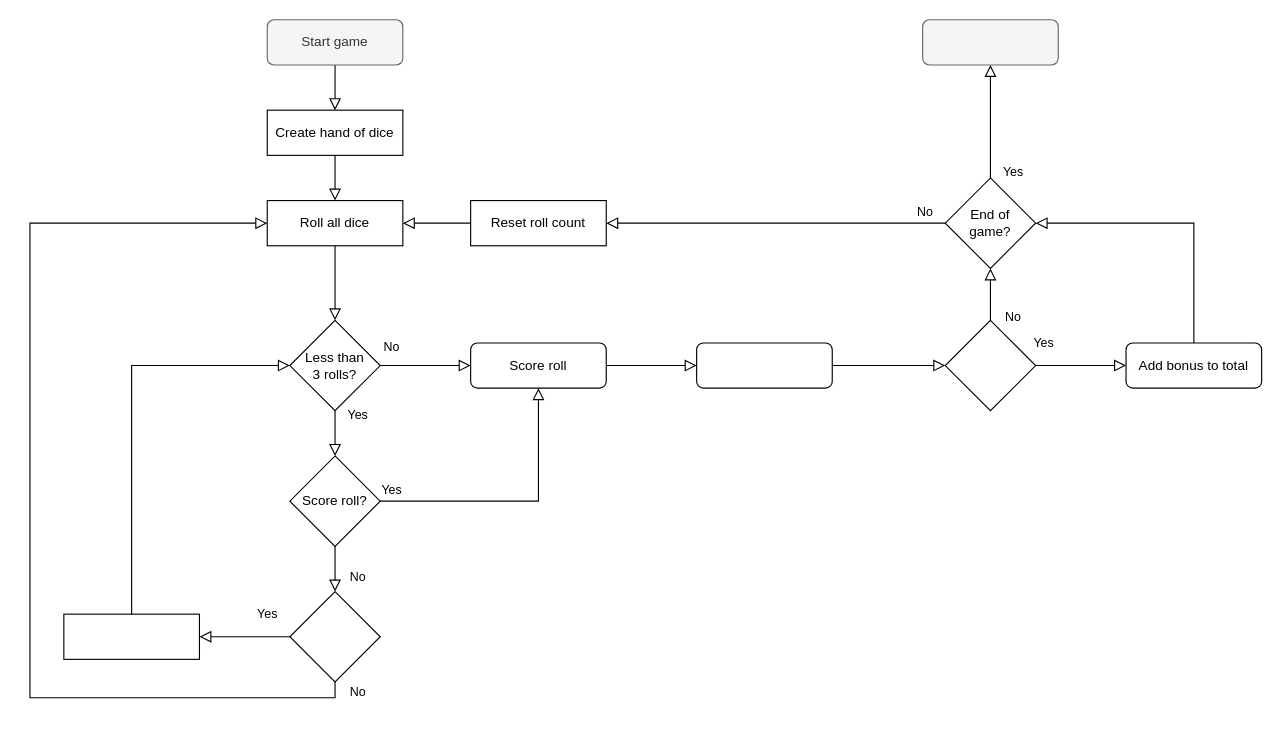
This 1281x729 diagram has some shape labels left out. The box of each missing label's shape, as (x1, y1, x2, y2) in pixels:
Calculate total: (696, 342, 832, 388)
End game: (922, 19, 1058, 65)
Reroll unsaved dice: (63, 613, 199, 659)
Save any dice?: (289, 590, 380, 682)
Total>=63?: (944, 319, 1036, 411)
